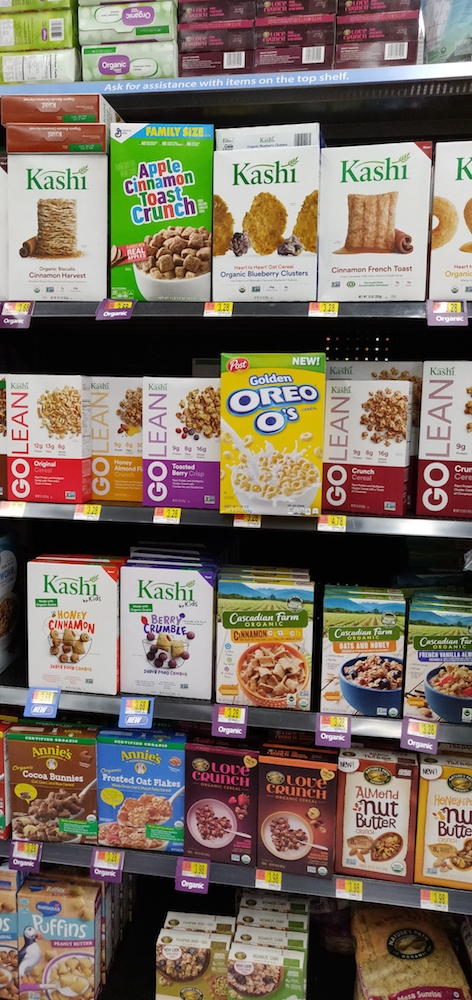Oreo Golden-568301011: (219, 348, 323, 521)
